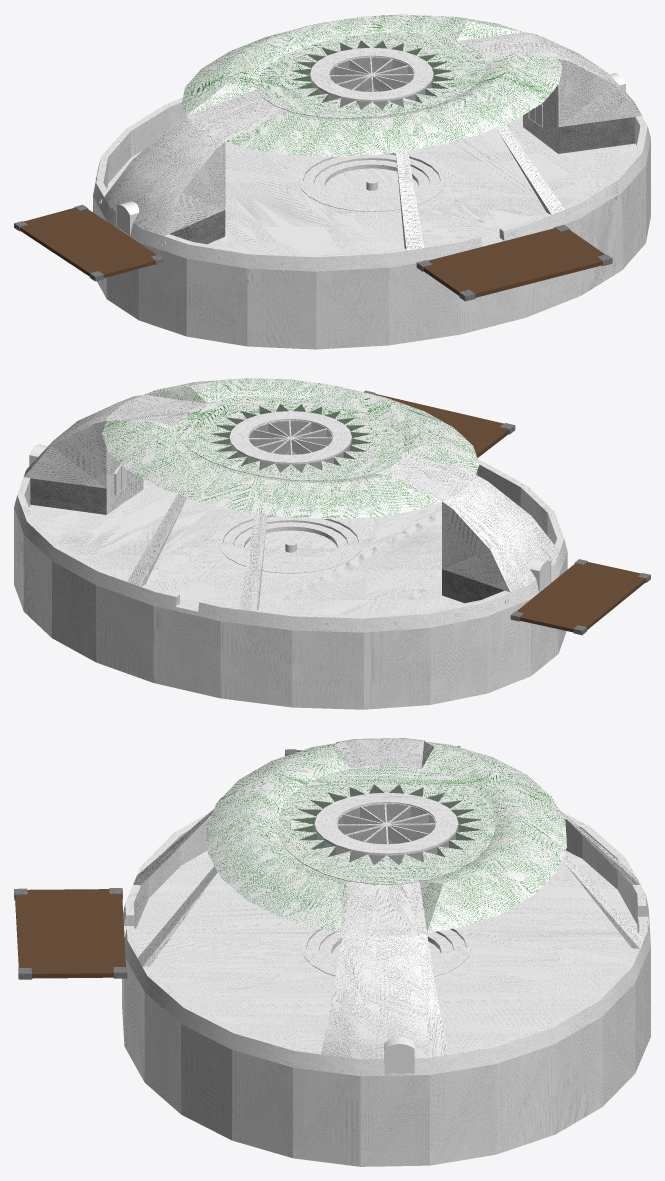
The model's file is Homestead Placeholder.dae.
3 views of the same model, one above another, from view 1: azimuth 30°, elevation 25°; view 2: azimuth 150°, elevation 25°; view 3: azimuth 270°, elevation 25° (orthographic). The views are drawn at different scales.
Visible parts, largest first — view 1: group_2 (×16), group_3, group_4; view 2: group_2 (×16), group_4, group_3; view 3: group_2 (×15), group_3, group_1.
Boxes of the visible parts, bbox=[...] form: group_2 (×16): bbox=[93, 14, 650, 349]; group_3: bbox=[423, 228, 604, 297]; group_4: bbox=[20, 208, 156, 277]; group_2 (×16): bbox=[14, 378, 567, 709]; group_4: bbox=[516, 562, 645, 632]; group_3: bbox=[374, 393, 509, 457]; group_2 (×15): bbox=[122, 738, 650, 1166]; group_3: bbox=[15, 889, 125, 978]; group_1: bbox=[385, 1045, 413, 1073].
Bounding box in the file's own units: 3670 × 2998 × 1072.
